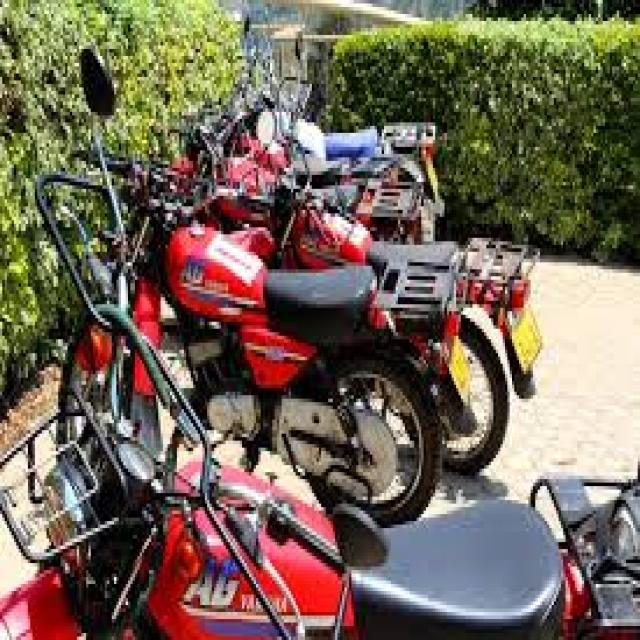bodaboda: (12, 6, 637, 640)
